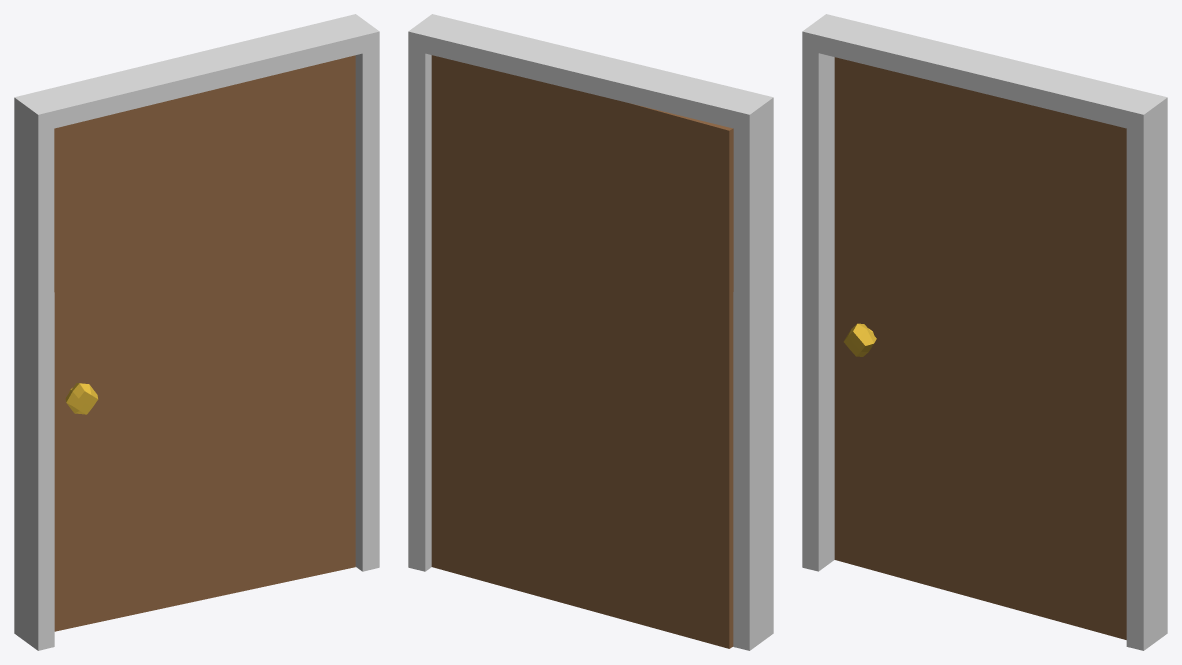
File: DOOR_V1.fbx
3 views of the same model, side by side, from view 1: azimuth 30°, elevation 25°; view 2: azimuth 150°, elevation 25°; view 3: azimuth 330°, elevation 25° (orthographic).
Visible parts, largest first — view 1: Cube, Cube.001; view 2: Cube, Cube.001; view 3: Cube, Cube.001.
Part boxes in pixels (left/top/right/bottom): Cube: left=54, top=55, right=355, bottom=631; Cube.001: left=14, top=14, right=379, bottom=650; Cube: left=431, top=55, right=733, bottom=648; Cube.001: left=408, top=14, right=773, bottom=650; Cube: left=834, top=57, right=1126, bottom=639; Cube.001: left=802, top=14, right=1167, bottom=650.
Size of the model in its own units: 200 by 300 by 27.4.
